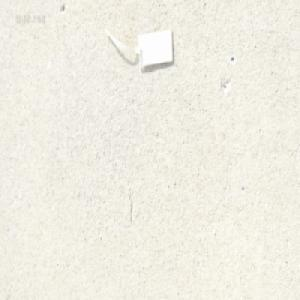LuggageTag: (101, 25, 175, 72)
